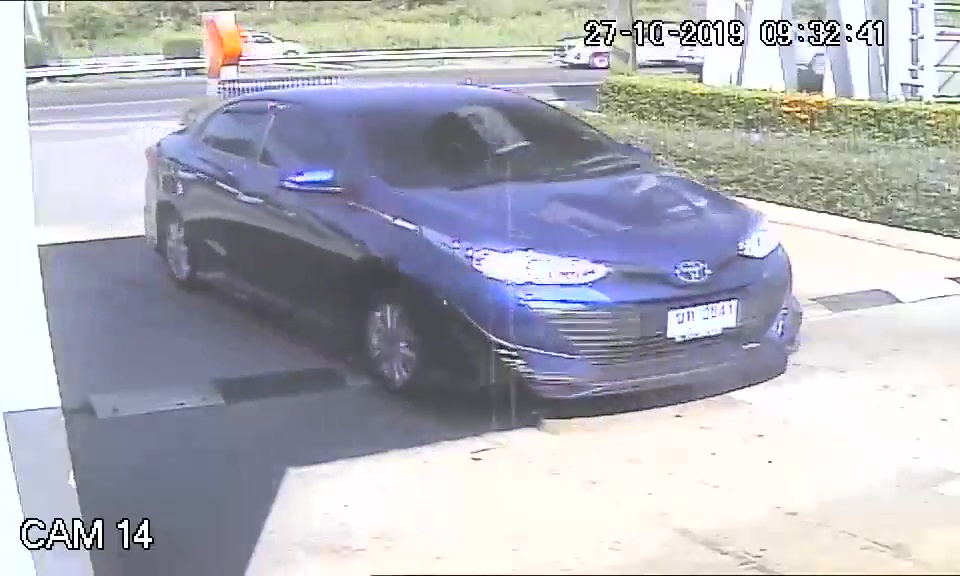sedan: (146, 91, 807, 407)
